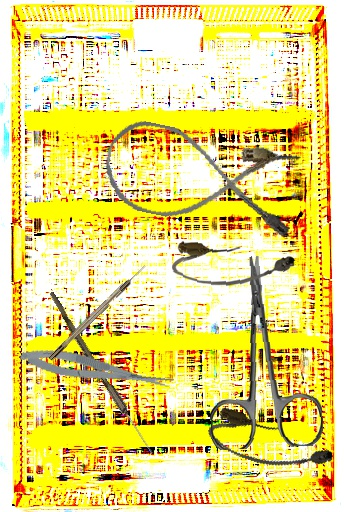Cannula: (95, 114, 306, 243), (203, 404, 338, 486), (170, 240, 297, 292)
Hook Surgical: (47, 263, 148, 362)
Iris Scissors: (202, 253, 324, 451)
Micro Scissor: (18, 342, 175, 399)
Surgical Spoon: (45, 291, 157, 456)
